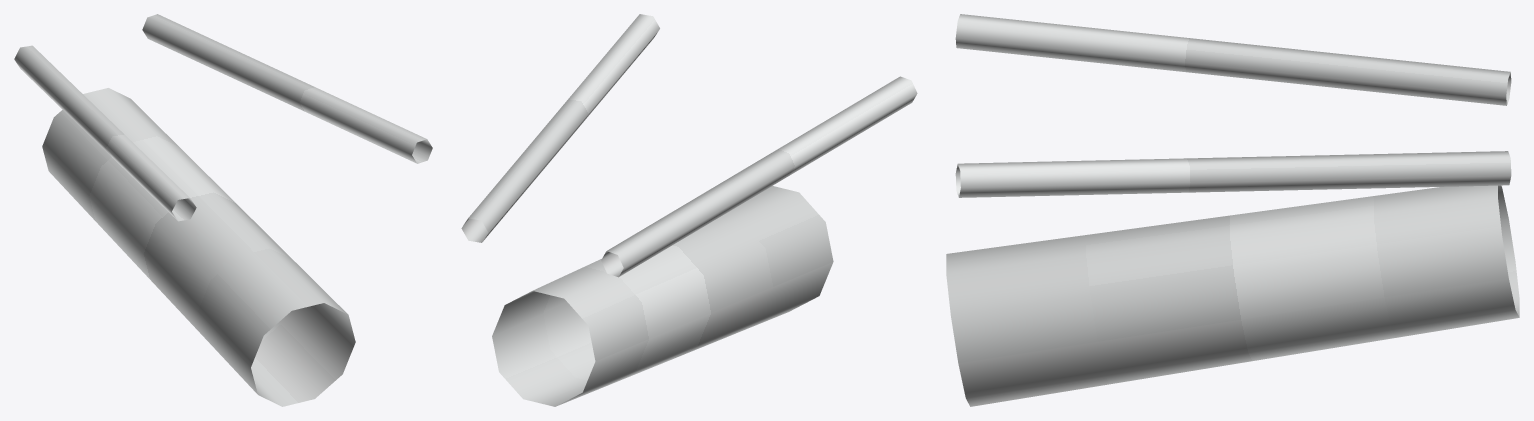
The model's file is nycsignalarm_regular4_c4.obj.
3 renders of one model, left to right at view 1: azimuth 30°, elevation 25°; view 2: azimuth 150°, elevation 25°; view 3: azimuth 270°, elevation 25°, orthographic. The views are drawn at different scales.
Parts seen in each view (by area): view 1: nycsignalarm_regular4_c4; view 2: nycsignalarm_regular4_c4; view 3: nycsignalarm_regular4_c4.
Boxes of the visible parts, x1,y1,x2,y2 form: nycsignalarm_regular4_c4: (14, 14, 432, 406); nycsignalarm_regular4_c4: (461, 14, 917, 406); nycsignalarm_regular4_c4: (946, 14, 1519, 406).
Bounding box in the file's own units: 0.7054 × 0.6101 × 1.04.
